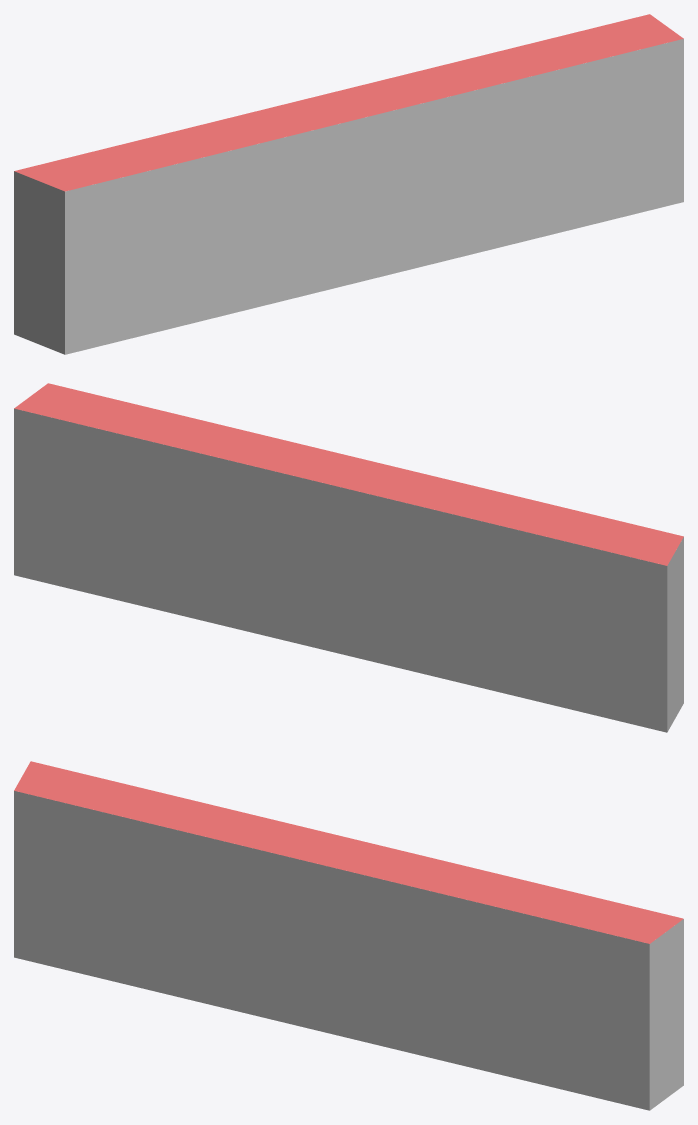
3 views of the same model, one above another, from view 1: azimuth 30°, elevation 25°; view 2: azimuth 150°, elevation 25°; view 3: azimuth 330°, elevation 25° (orthographic). The views are drawn at different scales.
Parts seen in each view (by area): view 1: Z_UP; view 2: Z_UP; view 3: Z_UP.
Boxes of the visible parts, left/top/right/bottom form: Z_UP: left=14, top=14, right=683, bottom=354; Z_UP: left=14, top=383, right=683, bottom=732; Z_UP: left=14, top=761, right=683, bottom=1110.
Bounding box in the file's own units: 65.43 × 16 × 6.33.
